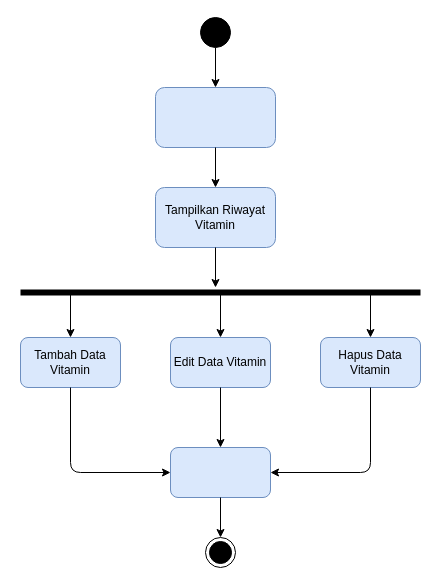
Image size: 440x585. Some labels were removed from this diagram. Each missing label, with the box of its shape:
Pilih Menu Vitamin: (154, 86, 276, 148)
Update Database: (170, 446, 270, 498)
